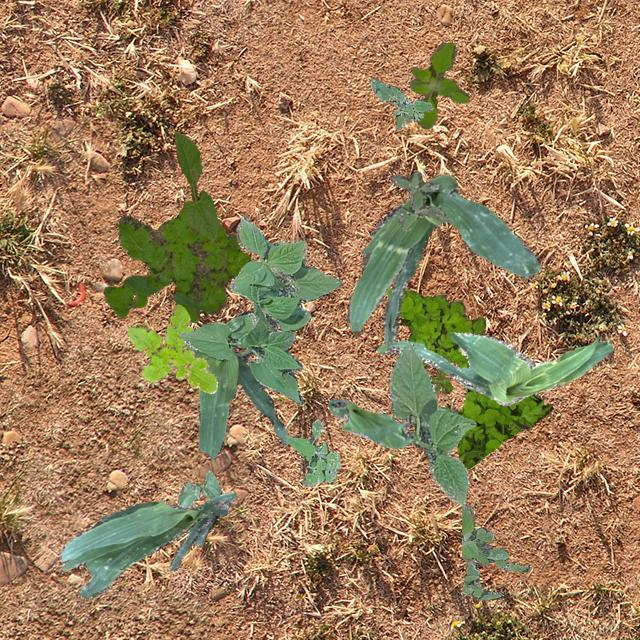crop: (344, 174, 540, 346), (178, 212, 342, 404), (60, 492, 234, 598), (373, 332, 612, 404), (185, 311, 288, 461), (388, 342, 474, 504), (174, 130, 216, 240), (328, 398, 413, 448), (178, 469, 228, 512)
weed: (386, 286, 552, 468), (102, 208, 250, 322), (126, 304, 217, 392), (460, 502, 530, 600), (408, 41, 468, 128), (282, 418, 340, 486), (368, 76, 432, 130), (390, 170, 442, 230), (428, 356, 452, 394)
